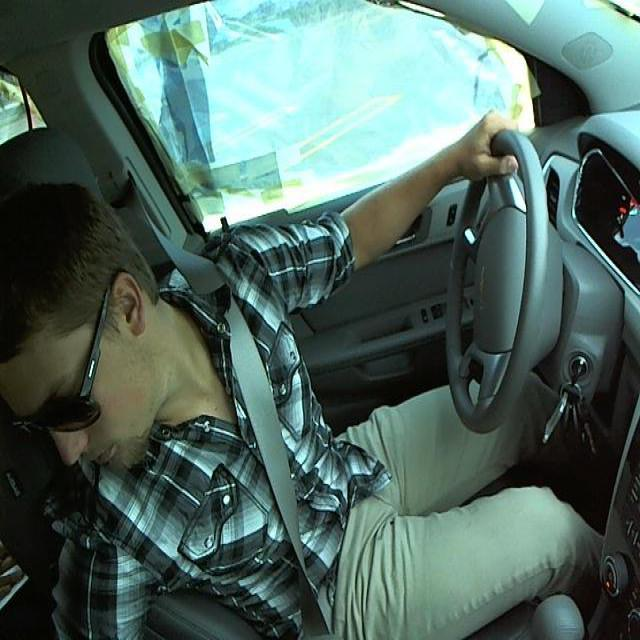seatbelt: (212, 300, 353, 637)
